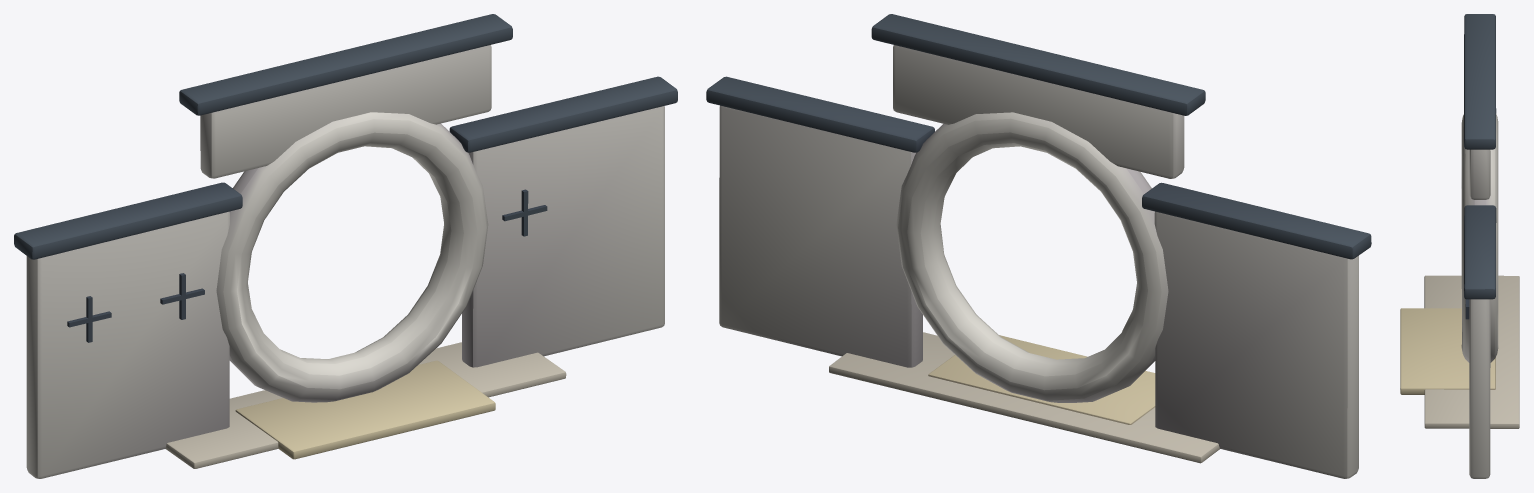
3 views of the same model, side by side, from view 1: azimuth 30°, elevation 25°; view 2: azimuth 150°, elevation 25°; view 3: azimuth 270°, elevation 25° (orthographic). The views are drawn at different scales.
Parts seen in each view (by area): view 1: gate_3c917fcc; view 2: gate_3c917fcc; view 3: gate_3c917fcc.
Part boxes in pixels (box(x1,y1,x2,y2)): gate_3c917fcc: box(14, 14, 677, 478); gate_3c917fcc: box(706, 14, 1371, 478); gate_3c917fcc: box(1400, 14, 1519, 478).
Bounding box in the file's own units: 7.64 × 3.87 × 1.5.
